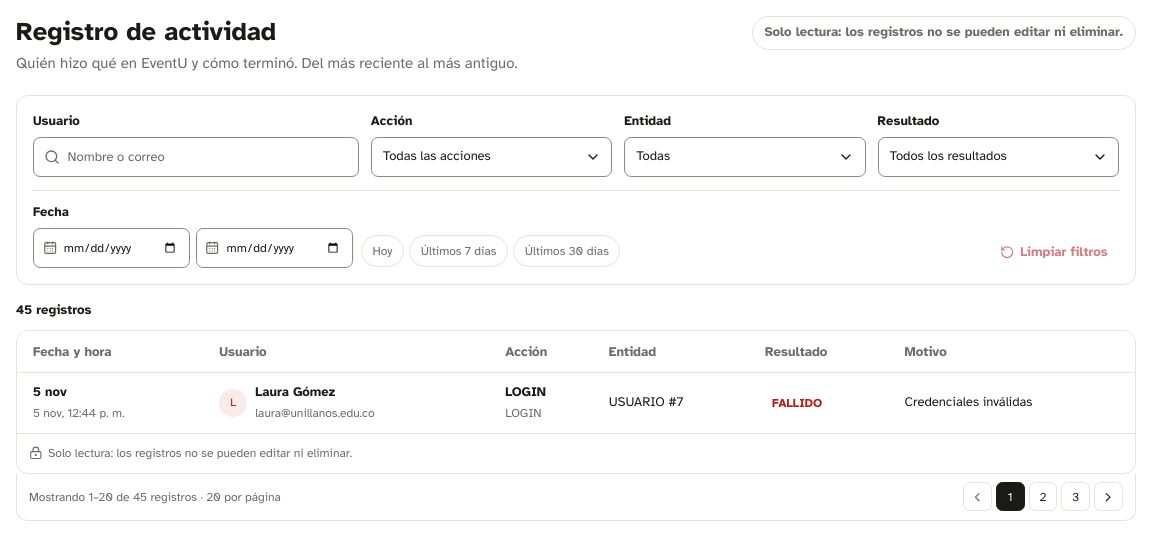
RegistroActividad › aplica un periodo rápido y consulta la página siguiente con 20 registros por página
This screenshot has width=1153, height=543.
expect the text "Laura Gómez" is shown: met, box [255,384,335,400]
Click the button "Últimos 7 días": coordinates (459, 252) [409,236,508,268]
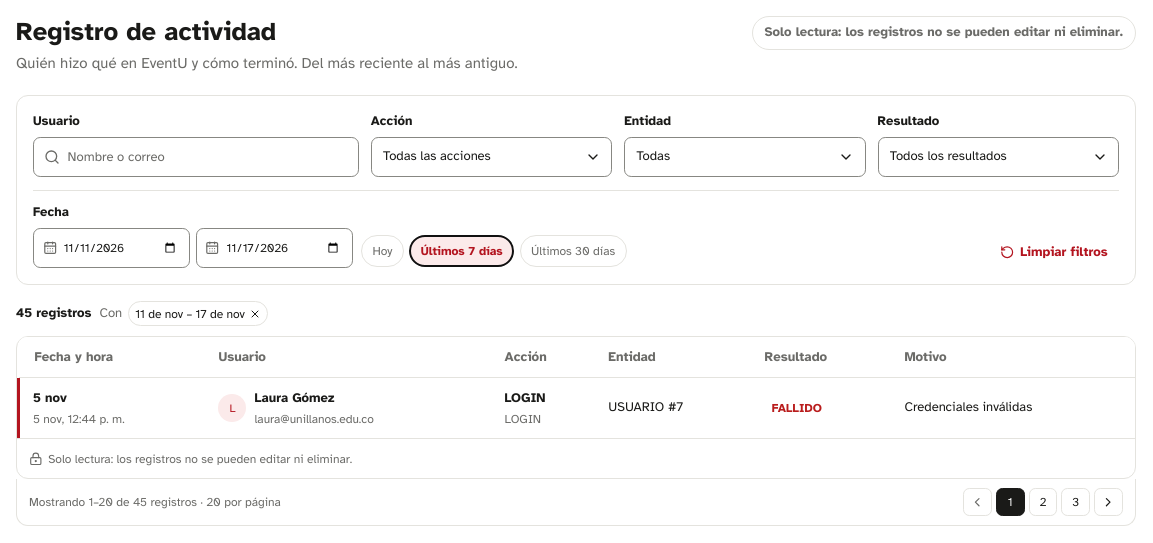
Click the button named "Página siguiente": coordinates (1109, 502) [1094,488,1123,516]
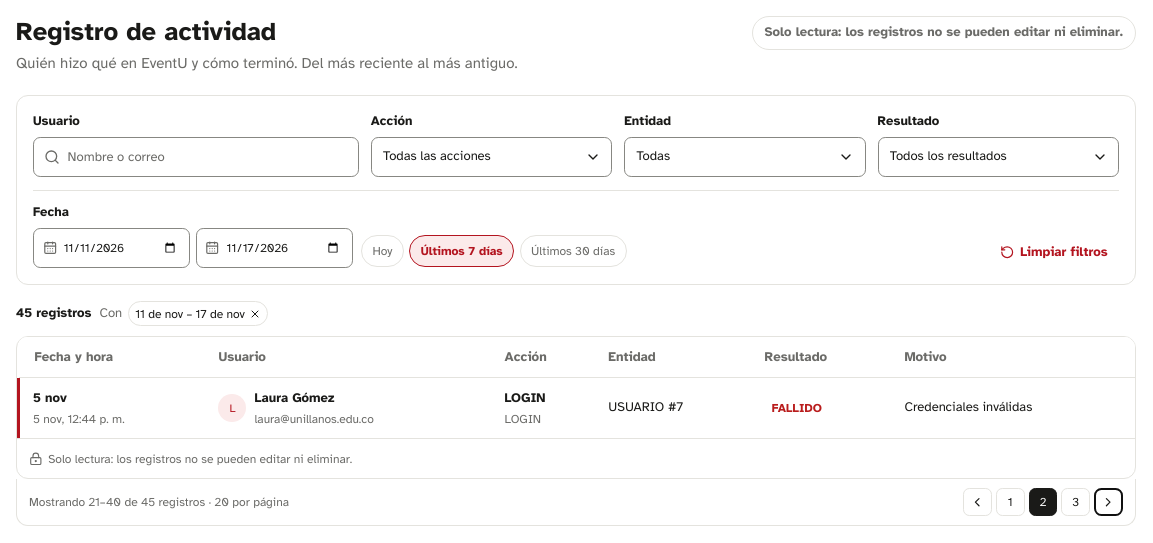
expect the navigation bar named "Paginación de actividad" shows "Mostrando 21–40 de 45 registros": met, box [29,495,205,509]
